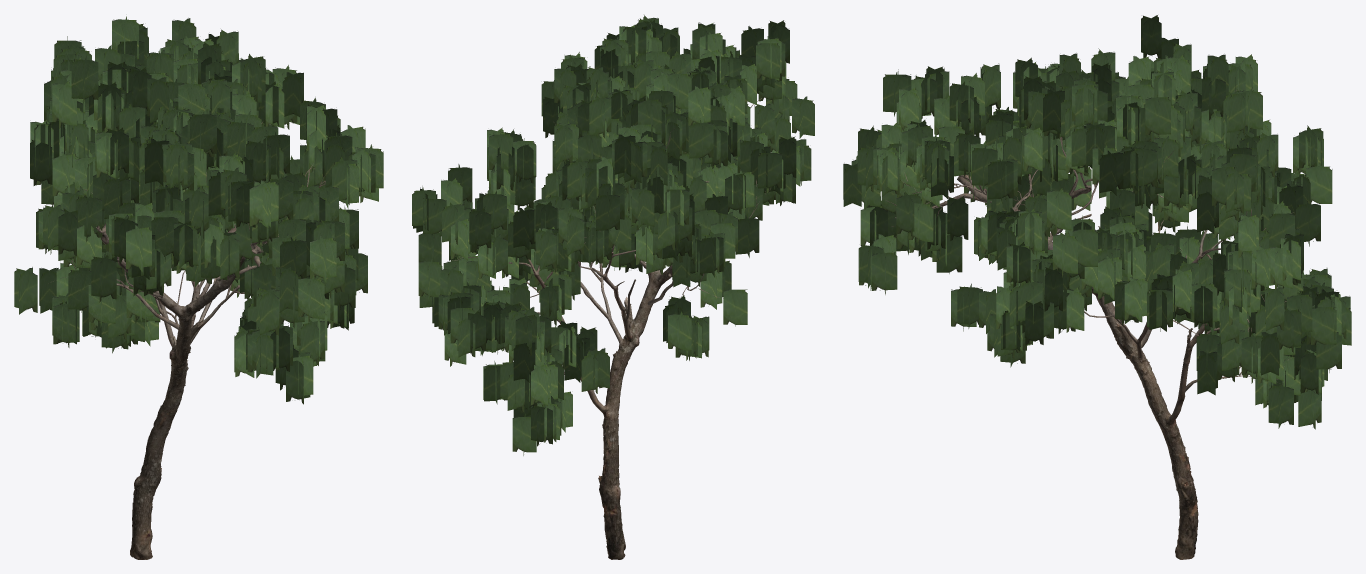
Rendered from common-tree.glb.
The picture shows the model from 3 angles, left to right: view 1: azimuth 30°, elevation 25°; view 2: azimuth 150°, elevation 25°; view 3: azimuth 270°, elevation 25°; orthographic projection. The views are drawn at different scales.
Visible parts, largest first — view 1: tree_small_02_LOD0; view 2: tree_small_02_LOD0; view 3: tree_small_02_LOD0.
Part boxes in pixels (bbox=[...]): tree_small_02_LOD0: bbox=[14, 16, 383, 559]; tree_small_02_LOD0: bbox=[412, 15, 814, 559]; tree_small_02_LOD0: bbox=[843, 15, 1351, 559].
Size of the model in its own units: 3.94 by 6.5 by 5.96.
3 materials, 3 textured.
